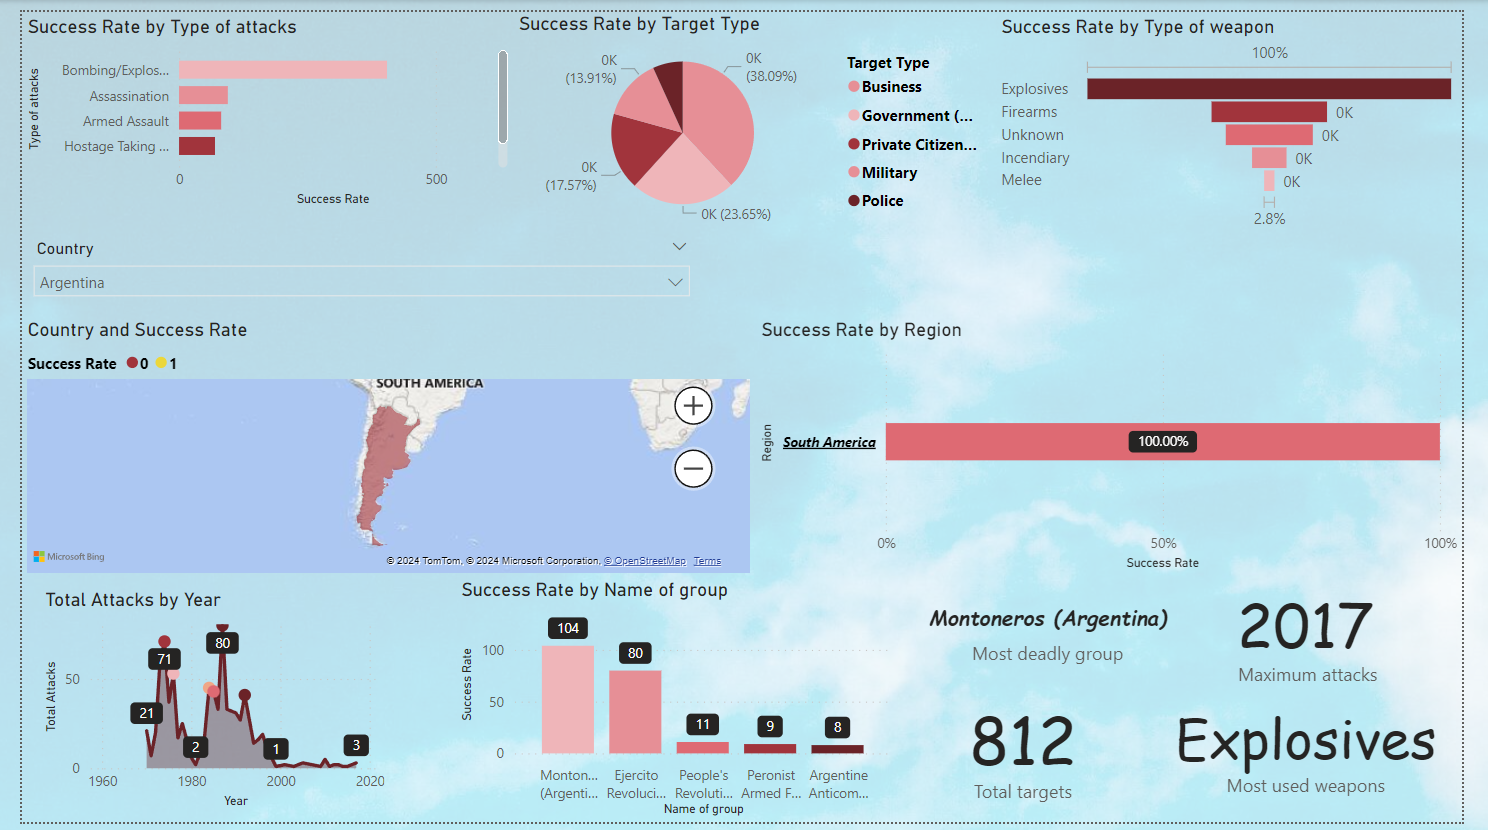

What the dashboard file says about the page in this screenshot:
{"tool":"powerbi","page":{"name":"Page 1","canvas":[1280,720],"ordinal":0},"visuals":[{"type":"clusteredBarChart","fields":{"Category":["Global terrorism final data set.Type of attacks"],"Y":["Sum(Global terrorism final data set.Success Rate)"]},"box":[0,1.7,436.7,175],"z":0},{"type":"pieChart","fields":{"Category":["Global terrorism final data set.Target Type"],"Y":["Sum(Global terrorism final data set.Success Rate)"]},"box":[436.8,0,427.6,196.1],"z":1000},{"type":"funnel","fields":{"Category":["Global terrorism final data set.Type of weapon"],"Y":["Sum(Global terrorism final data set.Success Rate)"]},"box":[865,1.7,415,195],"z":2000},{"type":"filledMap","fields":{"Category":["Global terrorism final data set.Country"],"Series":["Global terrorism final data set.Success Rate"]},"box":[0,271.7,651.7,231.7],"z":3000},{"type":"hundredPercentStackedBarChart","fields":{"Category":["Global terrorism final data set.Region"],"Y":["Sum(Global terrorism final data set.Success Rate)"]},"box":[651.7,271.7,628.3,228.3],"z":4000},{"type":"clusteredColumnChart","fields":{"Category":["Global terrorism final data set.Name of group"],"Y":["Sum(Global terrorism final data set.Success Rate)"]},"box":[385,503.3,393.3,216.7],"z":5000},{"type":"areaChart","fields":{"Category":["Global terrorism final data set.Year"],"Y":["CountNonNull(Global terrorism final data set.Year)"]},"box":[15,511.7,311.7,200],"z":6000},{"type":"slicer","fields":{"Values":["Global terrorism final data set.Country"]},"box":[0,196.7,603.3,75],"z":7000},{"type":"card","fields":{"Values":["Min(Global terrorism final data set.Name of group)"]},"box":[778.3,492.8,268.1,118.8],"z":8000},{"type":"card","fields":{"Values":["CountNonNull(Global terrorism final data set.Target Type)"]},"box":[786.7,601.7,206.7,106.7],"z":9000},{"type":"card","fields":{"Values":["Max(Global terrorism final data set.Year)"]},"box":[1046.7,503.3,188.3,100],"z":10000},{"type":"card","fields":{"Values":["Min(Global terrorism final data set.Type of weapon)"]},"box":[1001.7,588.3,278.3,131.7],"z":11000}]}

Visuals, with their boxes in screenshot pixels (x1, y1, x2, y2), scaled from the page's 1280x720 canvas onto the 1488x830 screenshot:
clusteredBarChart - Global terrorism final data set.Type of attacks x Sum(Global terrorism final data set.Success Rate): [0, 2, 508, 204]
pieChart - Global terrorism final data set.Target Type x Sum(Global terrorism final data set.Success Rate): [508, 0, 1005, 226]
funnel - Global terrorism final data set.Type of weapon x Sum(Global terrorism final data set.Success Rate): [1006, 2, 1487, 227]
filledMap - Global terrorism final data set.Country x Global terrorism final data set.Success Rate: [0, 313, 758, 580]
hundredPercentStackedBarChart - Global terrorism final data set.Region x Sum(Global terrorism final data set.Success Rate): [758, 313, 1487, 576]
clusteredColumnChart - Global terrorism final data set.Name of group x Sum(Global terrorism final data set.Success Rate): [448, 580, 905, 829]
areaChart - Global terrorism final data set.Year x CountNonNull(Global terrorism final data set.Year): [17, 590, 380, 820]
slicer - Global terrorism final data set.Country: [0, 227, 701, 313]
card - Min(Global terrorism final data set.Name of group): [905, 568, 1216, 705]
card - CountNonNull(Global terrorism final data set.Target Type): [915, 694, 1155, 817]
card - Max(Global terrorism final data set.Year): [1217, 580, 1436, 695]
card - Min(Global terrorism final data set.Type of weapon): [1164, 678, 1487, 829]
